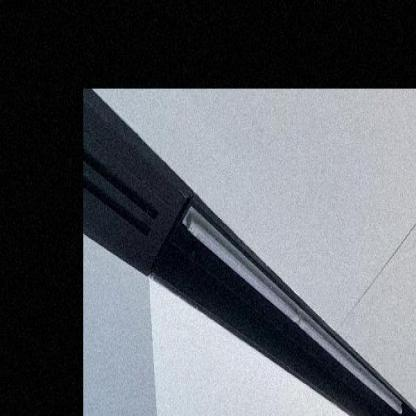light_off: (177, 191, 410, 415)
